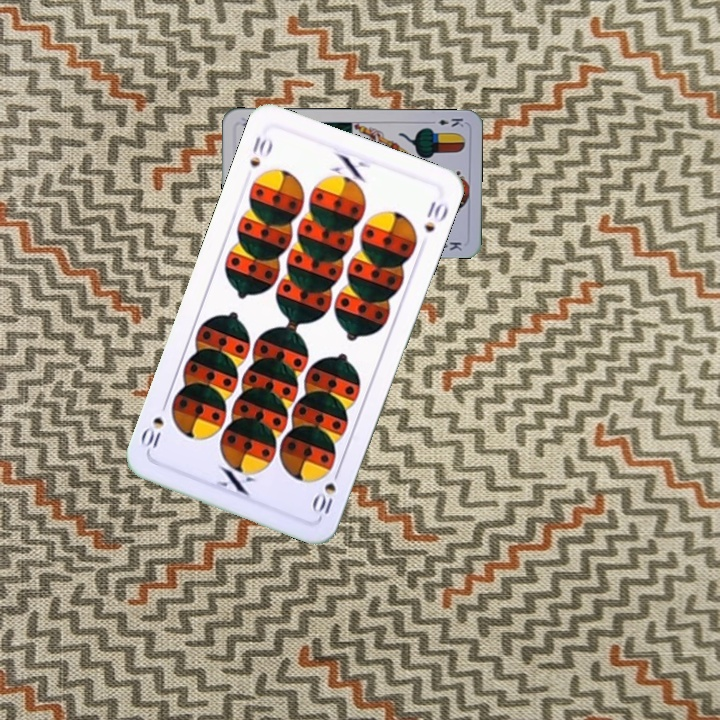EK: (426, 114, 466, 130)
S10: (309, 464, 344, 517), (245, 131, 276, 170)
